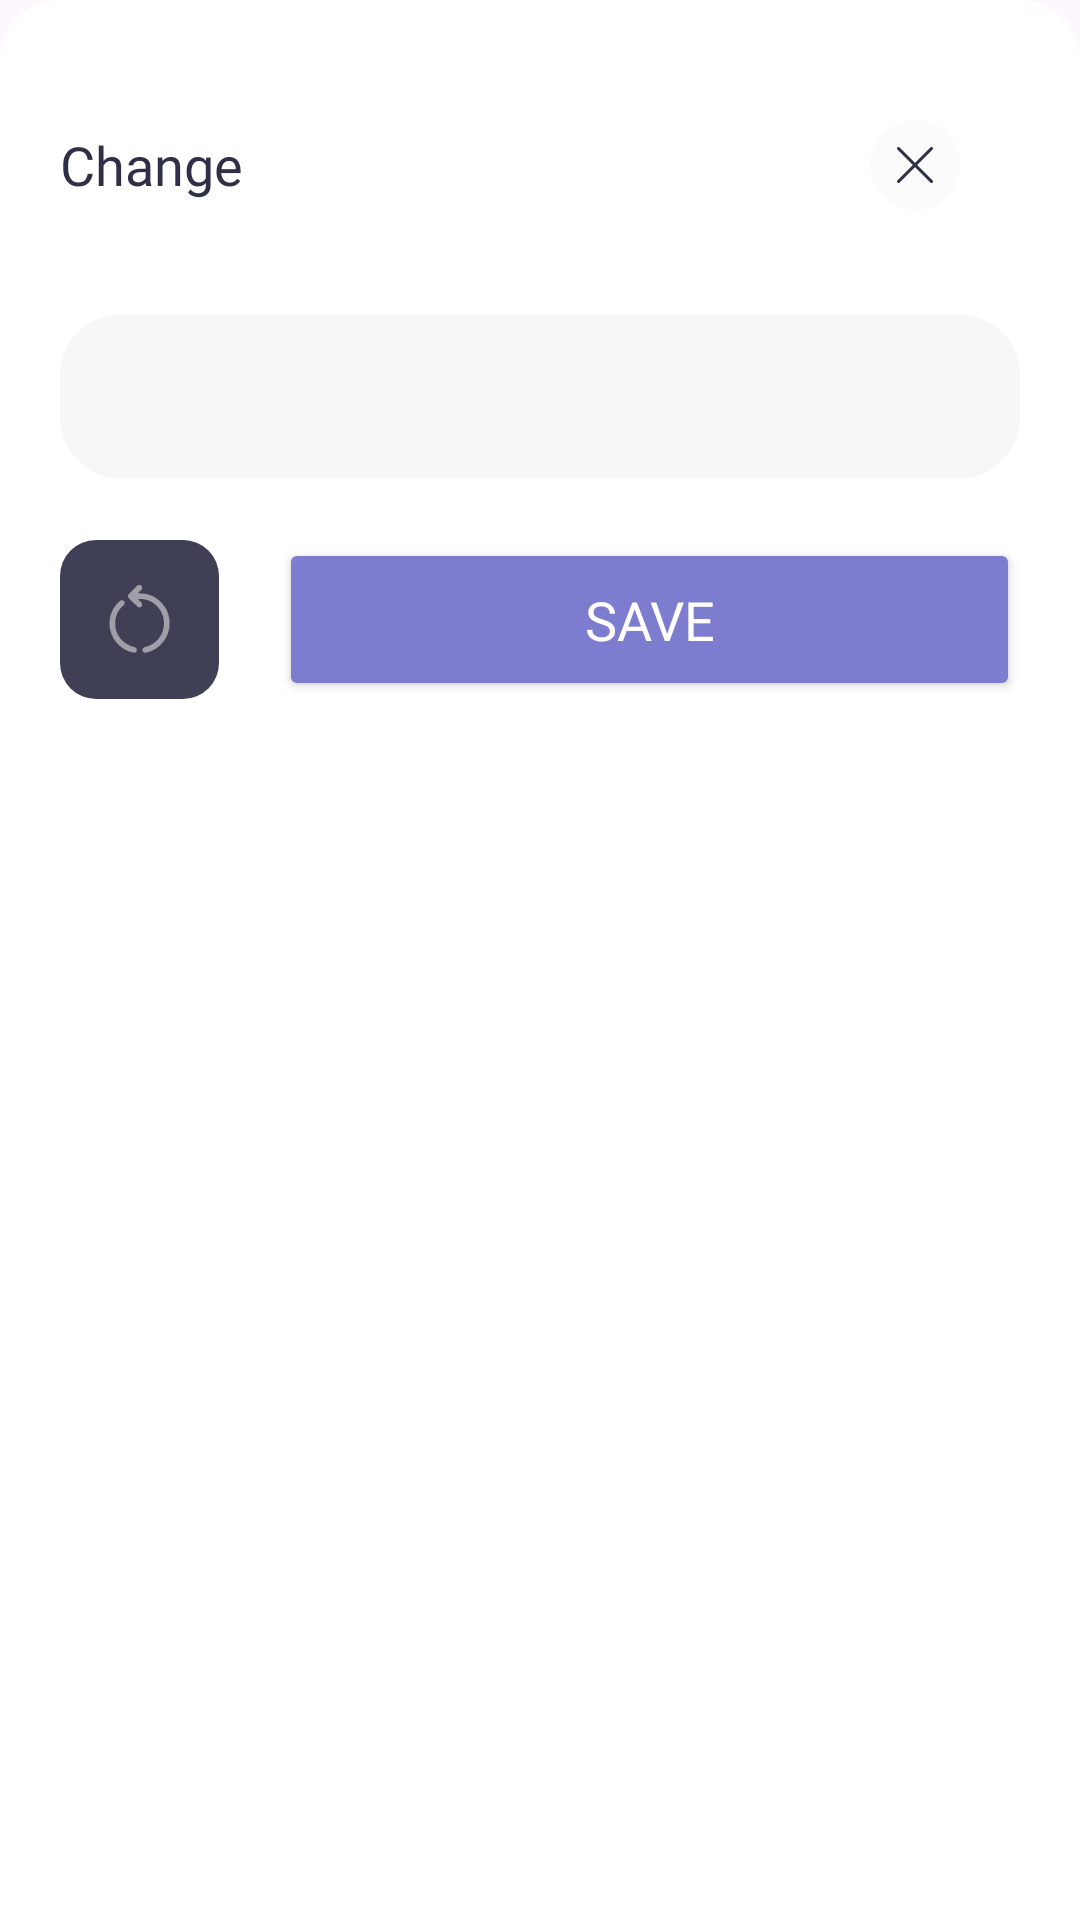

Named icons in this screenshot (1080px x 1920px) and their bounding boxes, (x1, y1, x2, y2):
close: (897, 147, 933, 183)
refresh: (60, 540, 219, 699)
